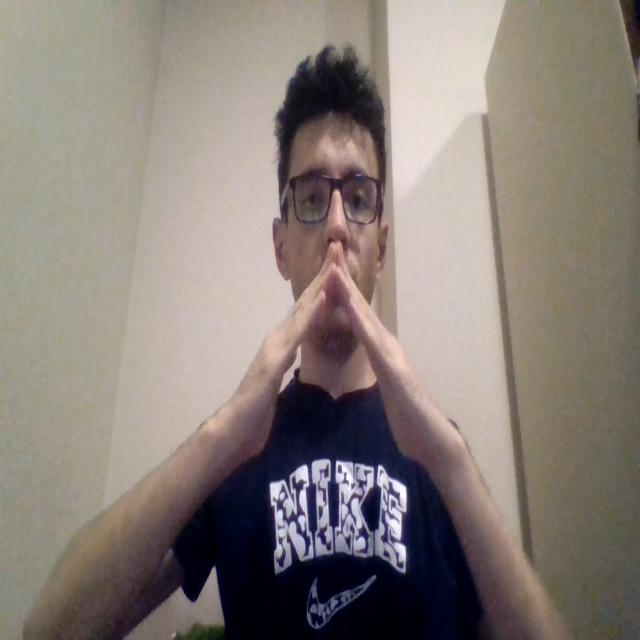house: (228, 243, 442, 482)
